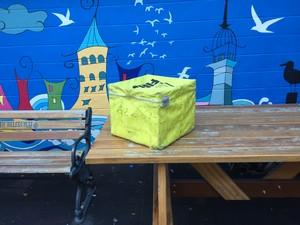cube: (109, 70, 197, 146)
